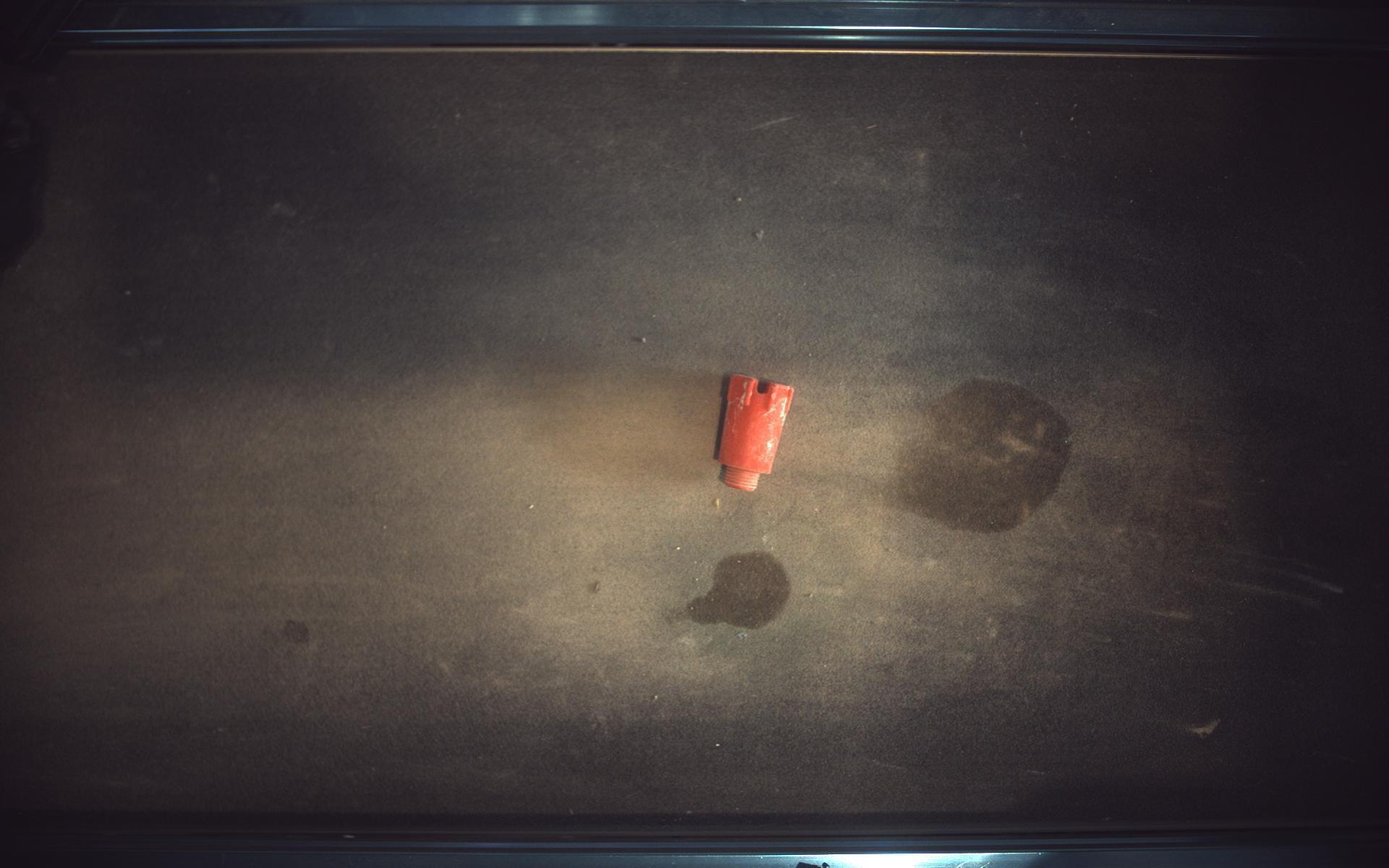general_w: (719, 374, 795, 492)
